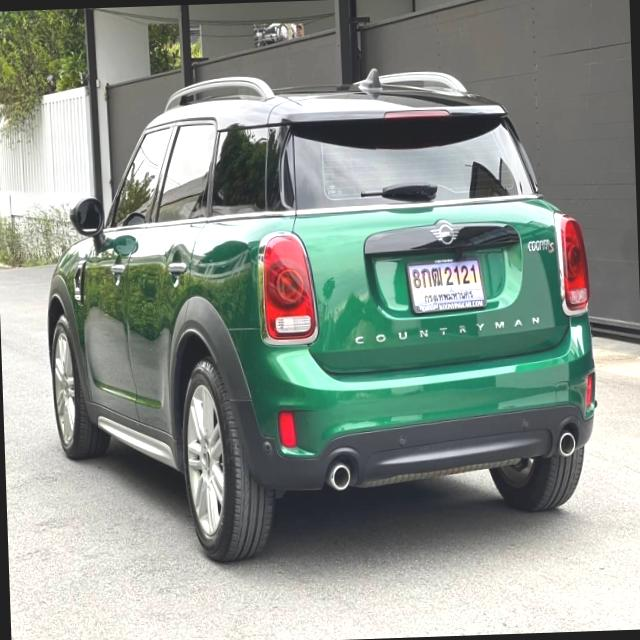license_plate: (406, 251, 487, 318)
